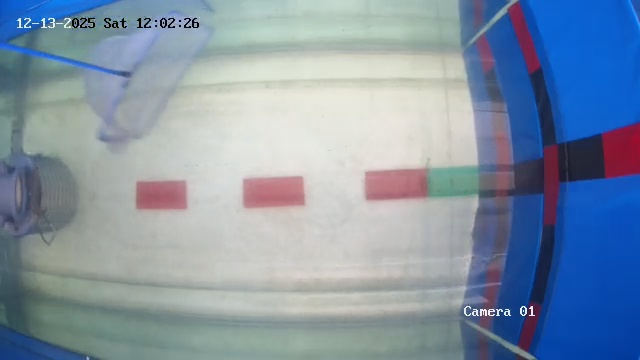fish: (470, 195, 494, 237)
